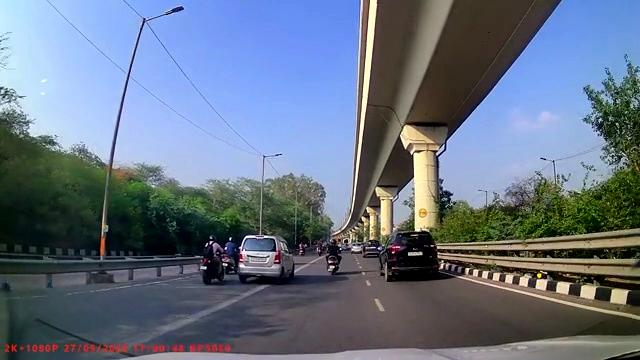motorcycle_with_helmet: (198, 234, 226, 284), (325, 236, 343, 275)
